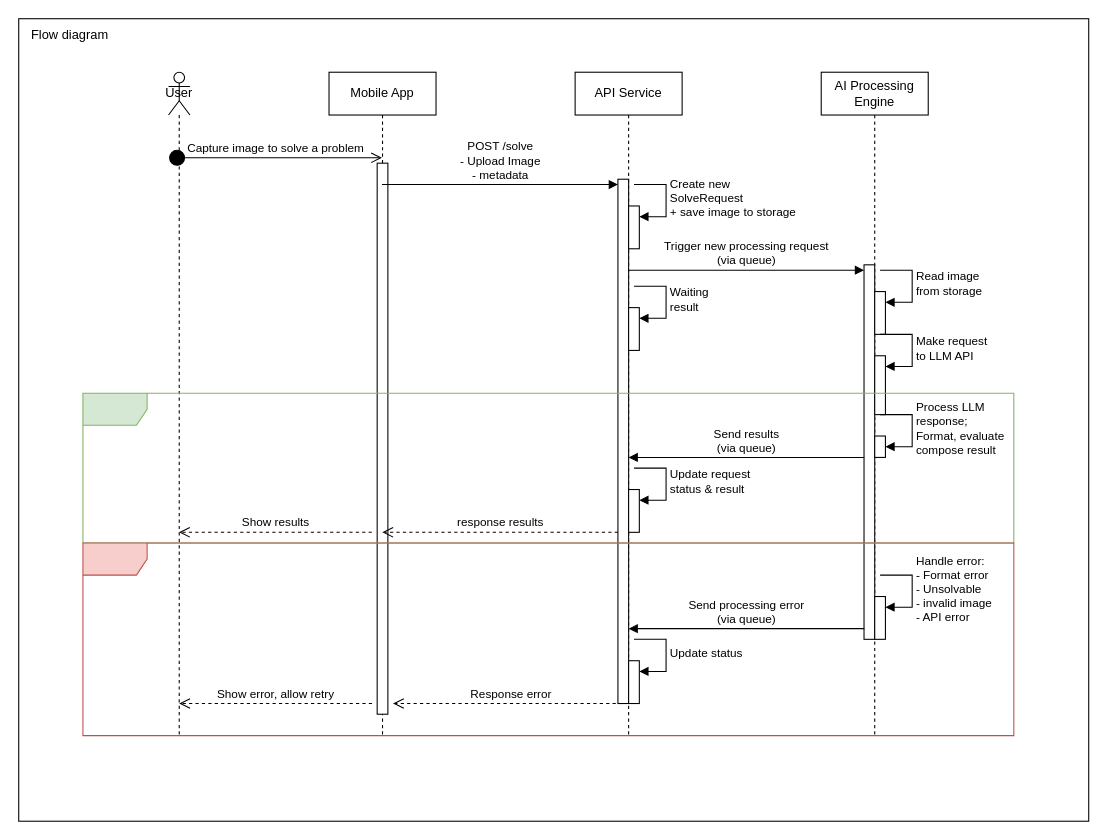
The diagram is 1107 pixels wide and 840 high, and some of its shapes have lost their labels. The box of each missing label's shape, as (x1, y1, x2, y2) in pixels:
Error case: (82, 542, 1014, 736)
Success case: (82, 392, 1014, 543)
